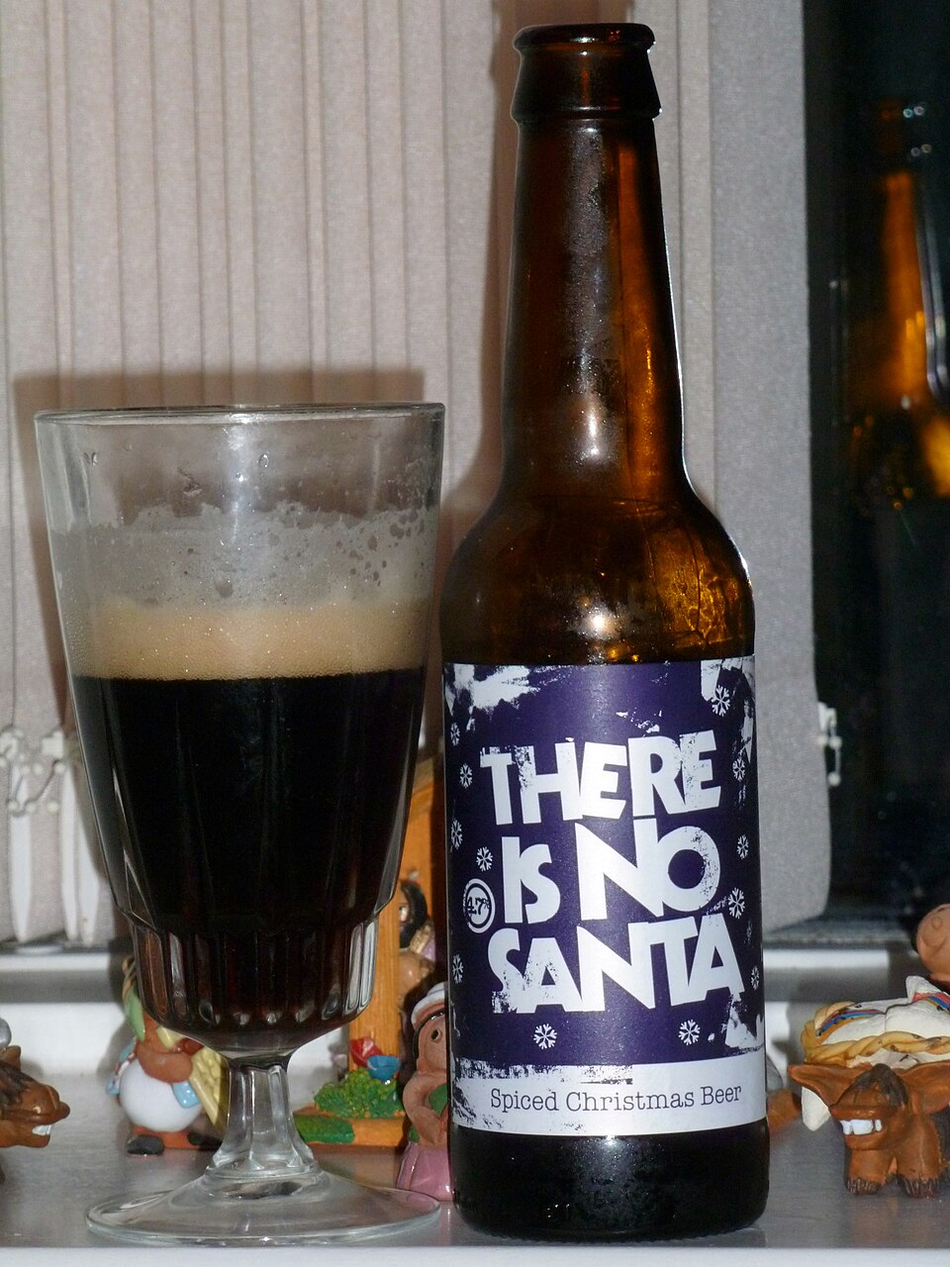beer-bottle: (431, 19, 772, 1256)
